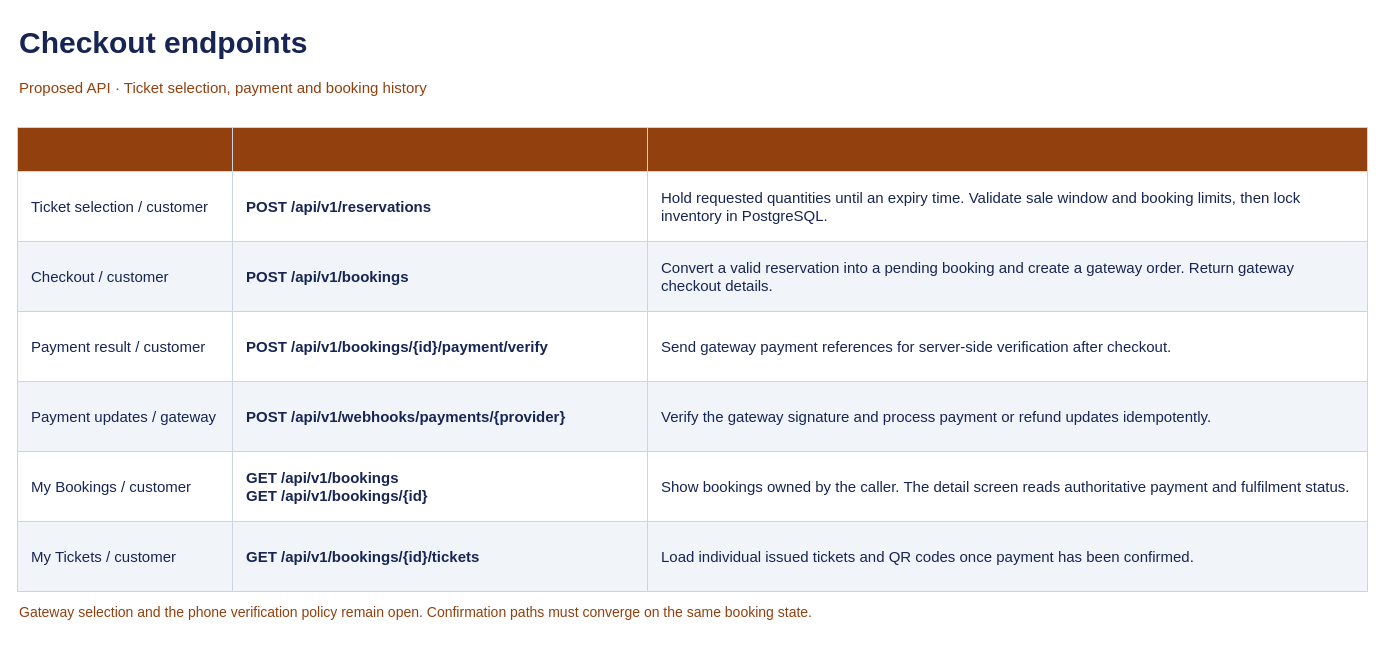
Some shapes in this 1385 by 664 pixel diagram are drawn without their labels. Here are the shapes that lost their labels. From the top down, the box of each, then its label:
(16, 126, 232, 172): Product section / caller
(232, 126, 648, 172): Method and endpoint
(646, 126, 1368, 172): When to call it and what it does
